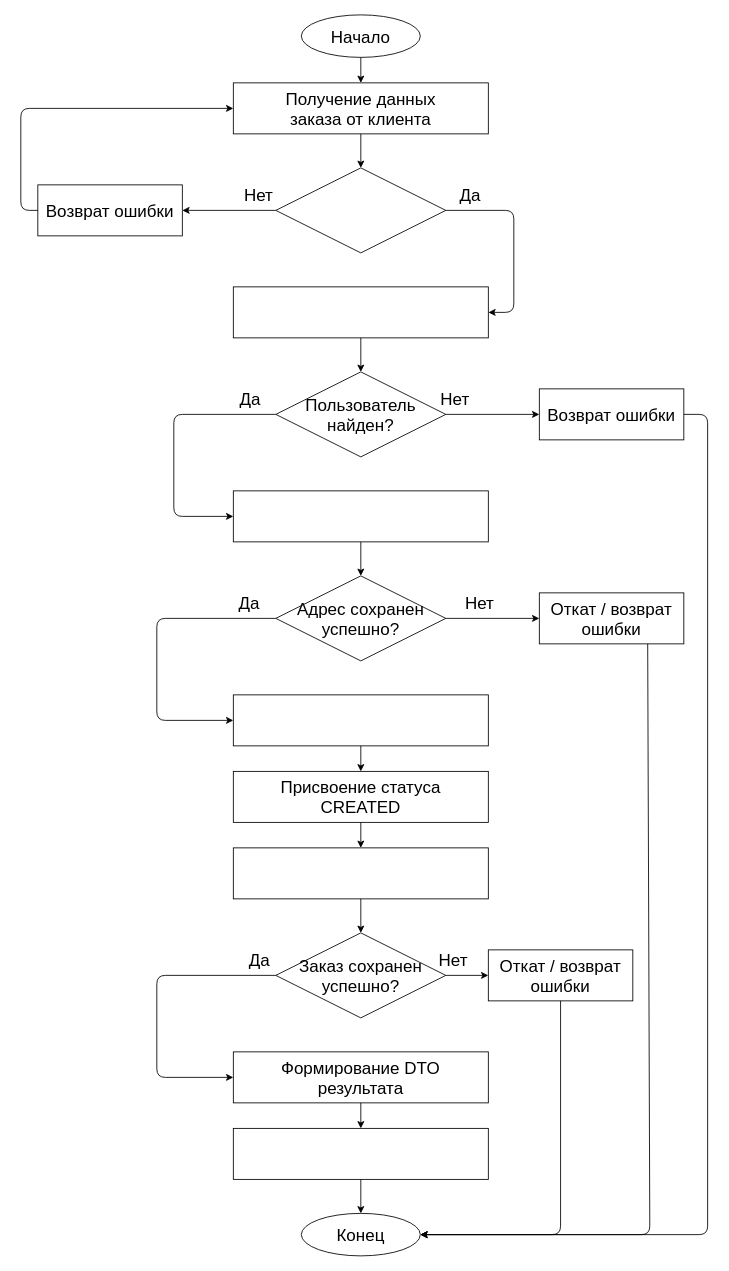
Image size: 729x1271. Some labels were removed from this diagram. The shapes that lost their labels are listed below. From the top down, each one's box as (x1, y1, x2, y2) in pixels, then its label:
(275, 167, 446, 253): Данные заполнены корректно?
(232, 286, 488, 338): Получение текущего пользователя
(232, 490, 488, 542): Создание и сохранение адреса
(232, 694, 488, 746): Создание заказа и заполнение полей
(232, 847, 488, 899): Сохранение заказа в базе данных
(232, 1128, 488, 1179): Возврат данных клиенту
